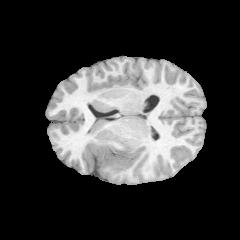glioma: (88, 139, 131, 174)
